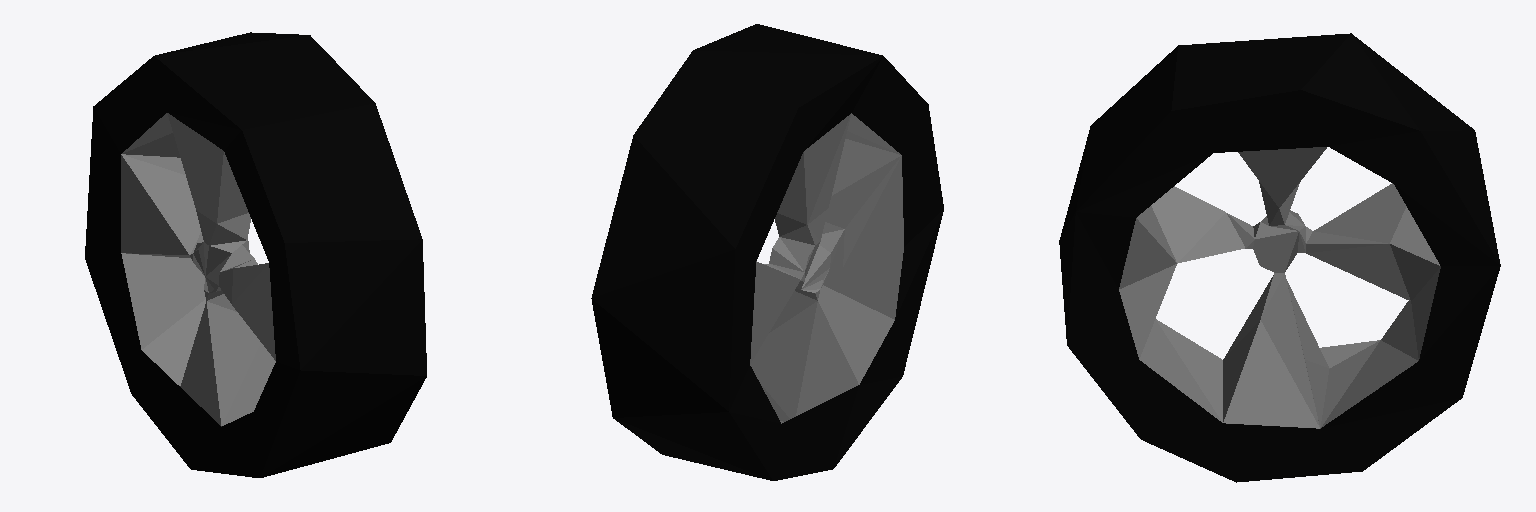
The model's file is montana_wheel.obj.
3 renders of one model, left to right at view 1: azimuth 30°, elevation 25°; view 2: azimuth 150°, elevation 25°; view 3: azimuth 270°, elevation 25°, orthographic.
Parts seen in each view (by area): view 1: Circle.001; view 2: Circle.001; view 3: Circle.001.
Boxes of the visible parts, <box> form: Circle.001: <box>85,32,426,477</box>; Circle.001: <box>591,24,943,480</box>; Circle.001: <box>1059,33,1500,482</box>.
Size of the model in its own units: 0.457 by 1.3 by 1.32.